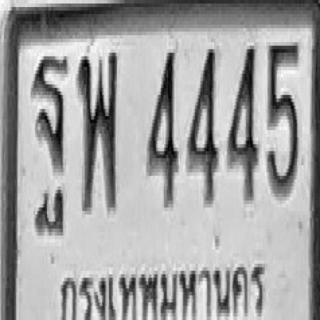A16: (32, 51, 68, 209)
A30: (77, 49, 118, 211)
N04: (146, 49, 178, 204), (187, 44, 218, 202), (227, 42, 258, 197)
N05: (267, 40, 299, 195)
P04: (57, 250, 267, 320)
